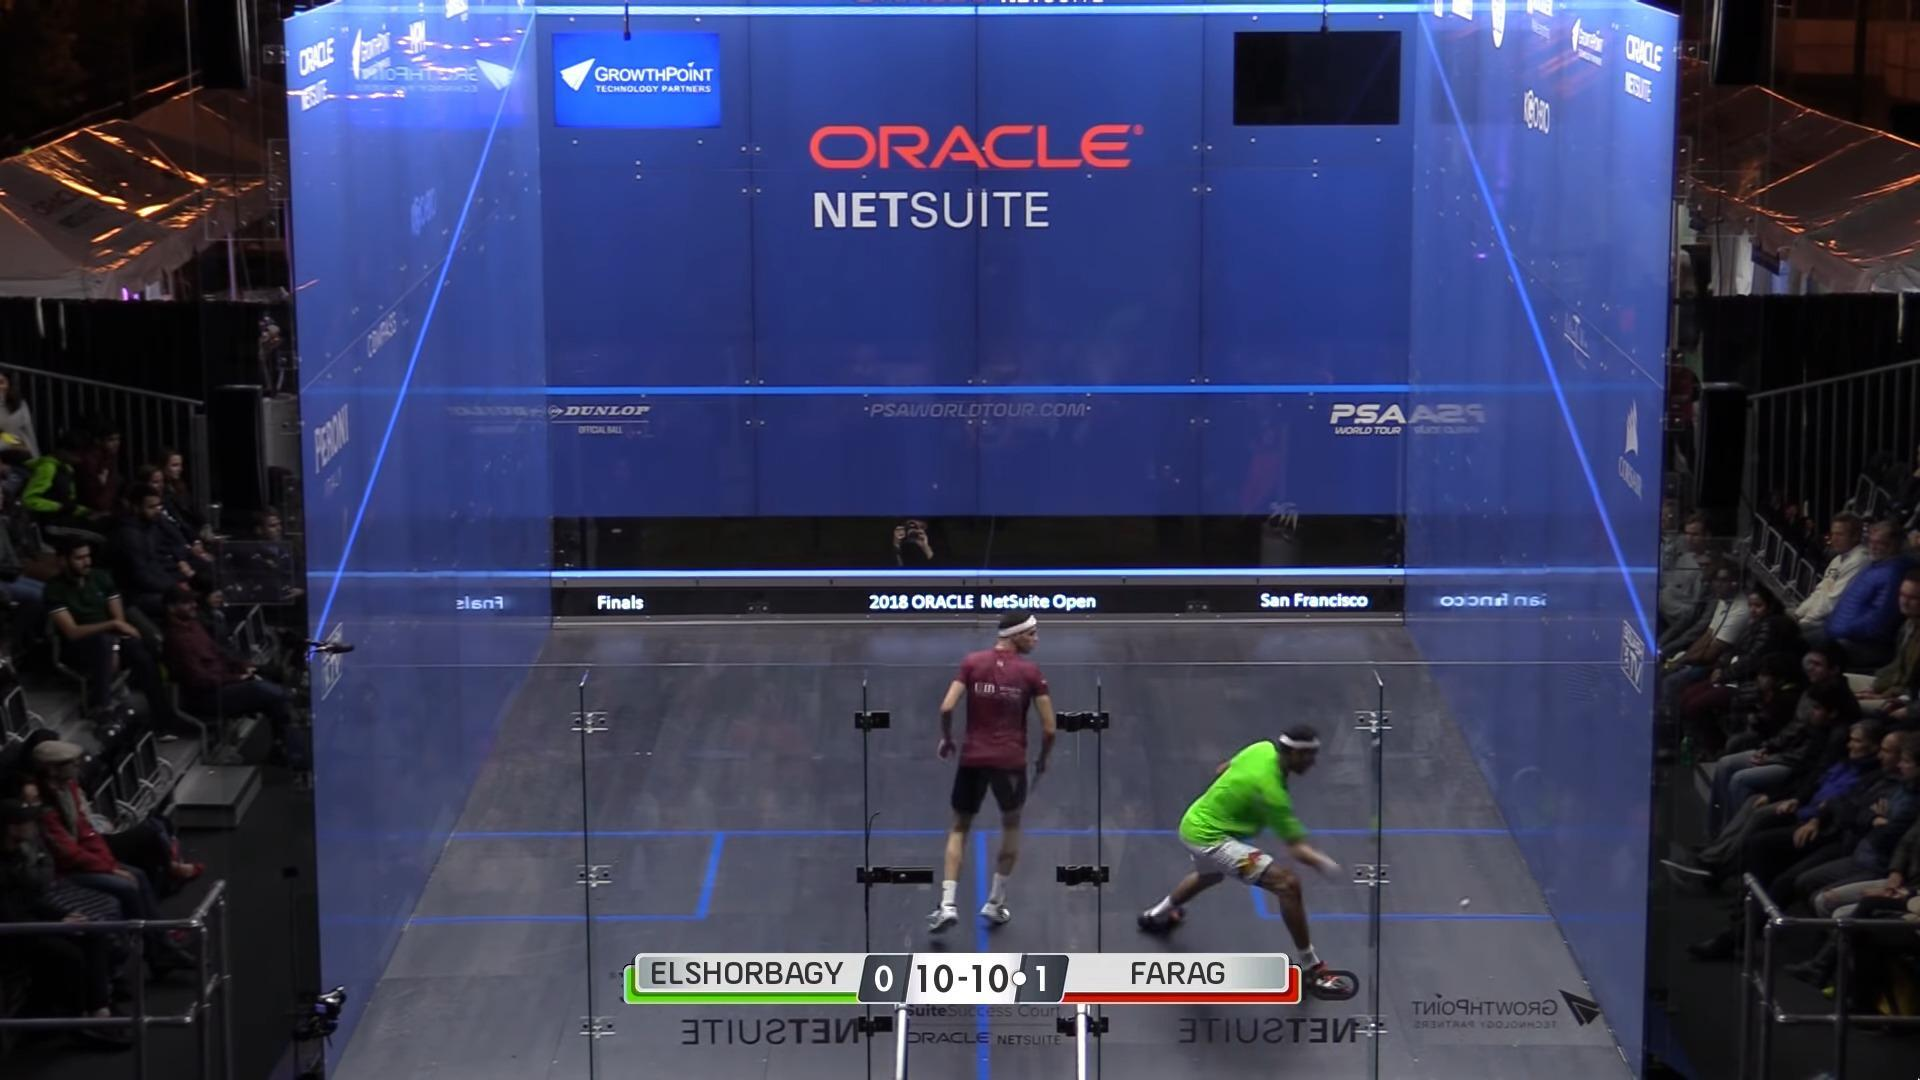Squash-Ball: (1455, 887, 1486, 910)
